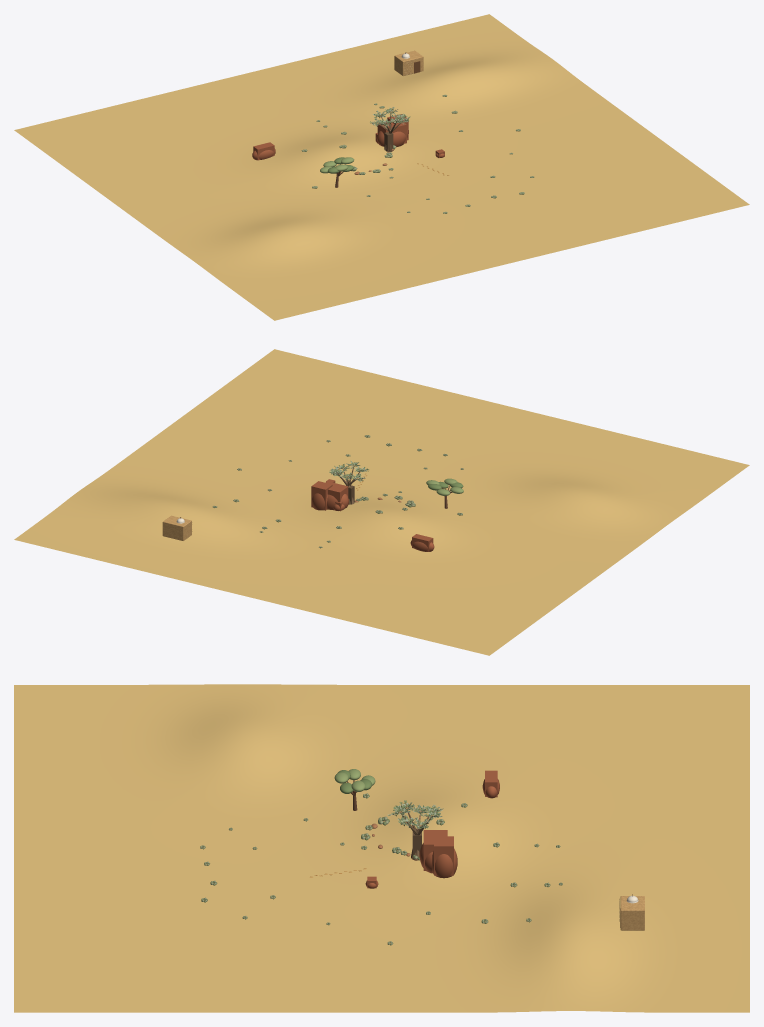
File: scetis-dunes.glb
The picture shows the model from 3 angles, top to bottom: view 1: azimuth 30°, elevation 25°; view 2: azimuth 150°, elevation 25°; view 3: azimuth 270°, elevation 25°; orthographic projection. The views are drawn at different scales.
Visible parts, largest first — view 1: ground, chilie, scetis-dunes; view 2: ground, scetis-dunes, chilie, salcâm; view 3: ground, scetis-dunes, chilie, salcâm.
Part boxes in pixels (x1,y1,x2,y2): ground: (14,14,749,320); chilie: (394,50,423,75); scetis-dunes: (252,130,448,175); ground: (14,349,749,655); scetis-dunes: (312,473,434,551); chilie: (162,515,192,540); salcâm: (426,478,463,508); ground: (14,684,749,1012); scetis-dunes: (310,779,499,888); chilie: (619,894,644,930); salcâm: (334,769,375,810).
Bounding box in the file's own units: 78 × 6.74 × 74.
Materials: 28 (1 with a texture image).
